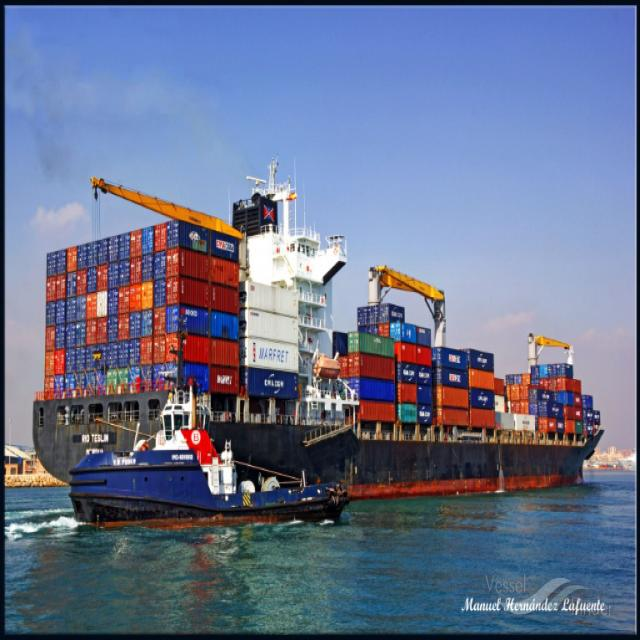Container Ship: (33, 167, 603, 497)
tugboat: (68, 376, 350, 528)
